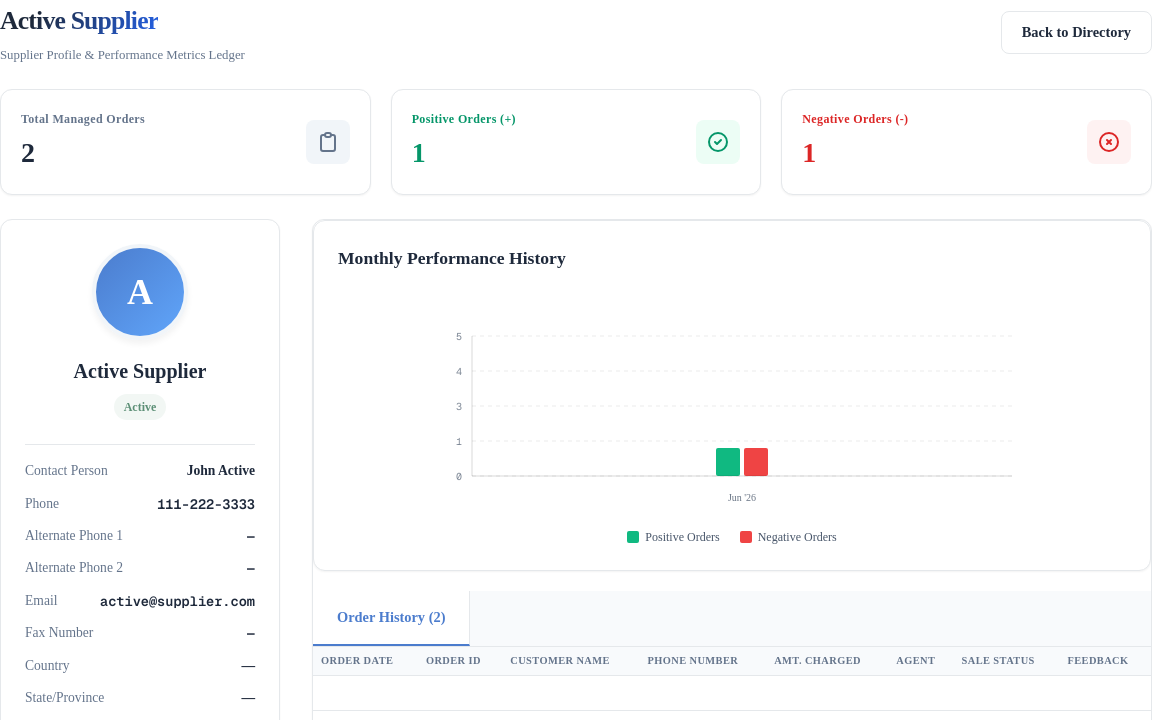
Scenario: VendorDetailPage Unit Tests › should render vendor details, clickable metrics cards, and performance history chart
This screenshot has width=1152, height=720.
Expected: the 1st heading "Active Supplier" is shown, [0,0,158,42]
Expected: the heading "2" is shown, [21,137,35,168]
# Clicking "Negative Orders (-)" card should open a modal listing the negative orders
Click the text "Negative Orders (-)" at (855, 119), box [802,110,908,128]
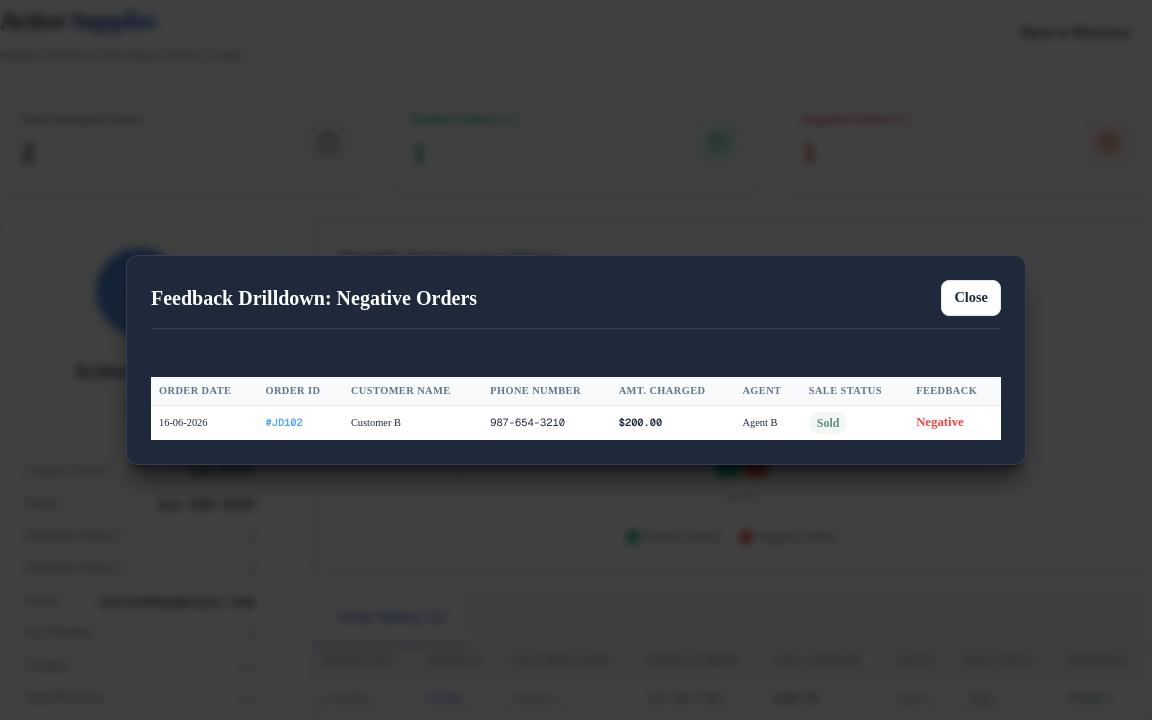
Result: the heading "Feedback Drilldown: Negative Orders" is shown at [151,283,477,313]
# We should be able to close the modal
Click the button "Close" at (971, 298), box [941,280,1001,316]
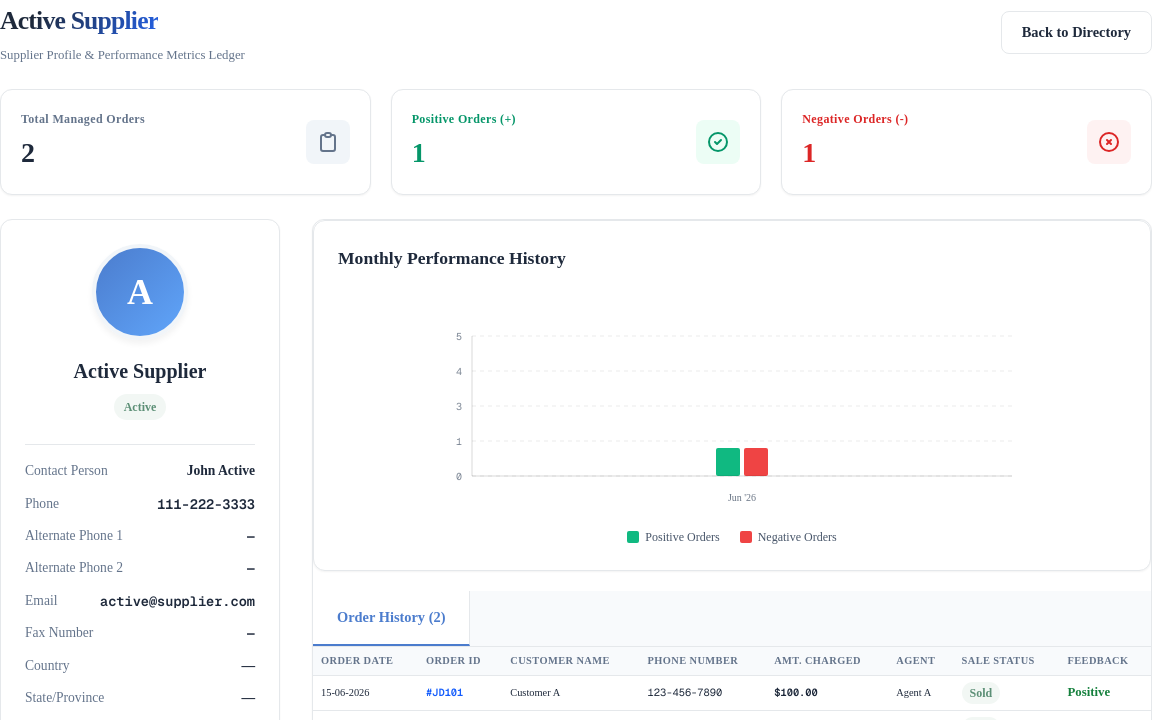
Result: the heading "Feedback Drilldown: Negative Orders" is gone
